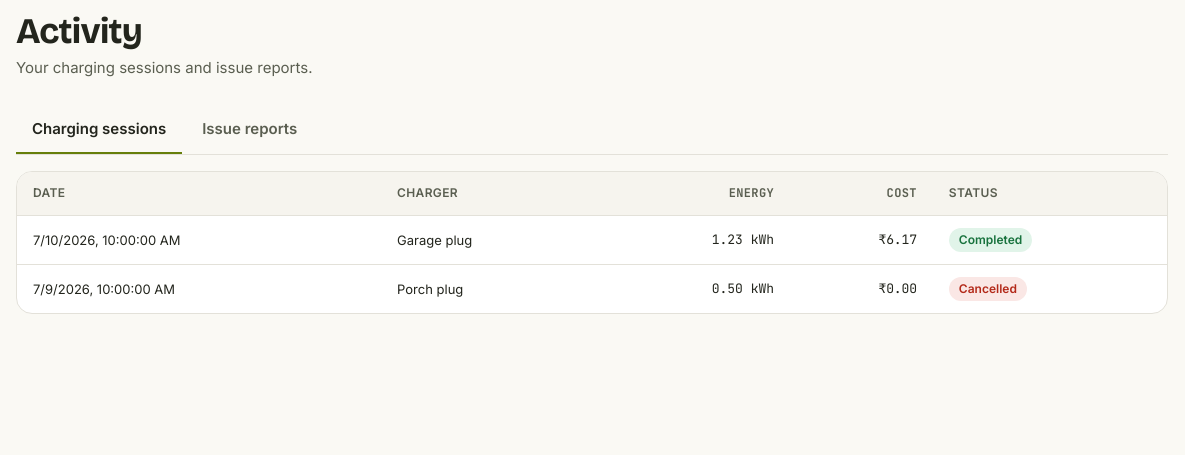
Activity — issue reports tab › shows a retryable error instead of an empty state on failure
Check: the text "Garage plug" is shown, box [381, 216, 598, 264]
Step 1. Click the tab "Issue reports" → (250, 130), box [186, 105, 313, 154]
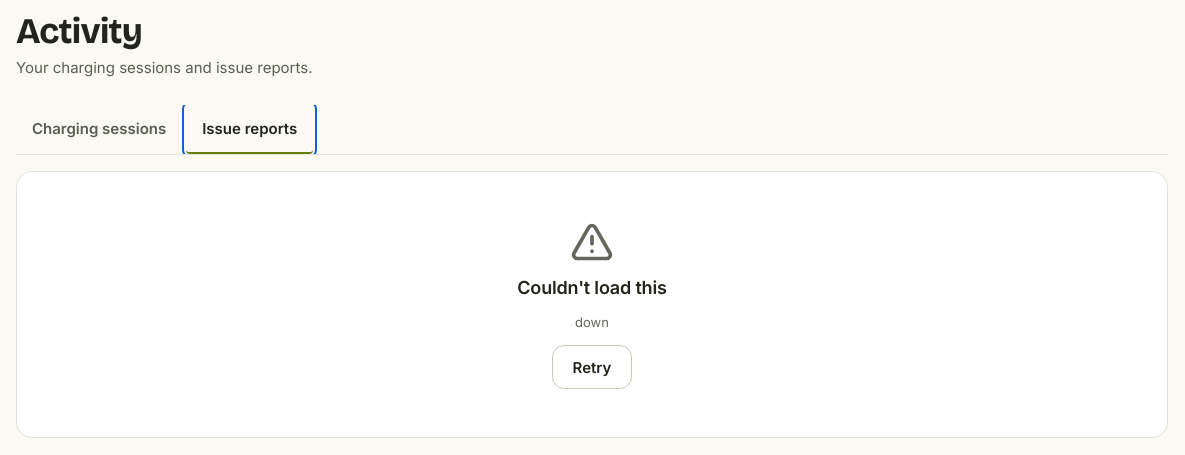
Check: the heading "Couldn't load this" is shown, box [517, 276, 667, 300]
